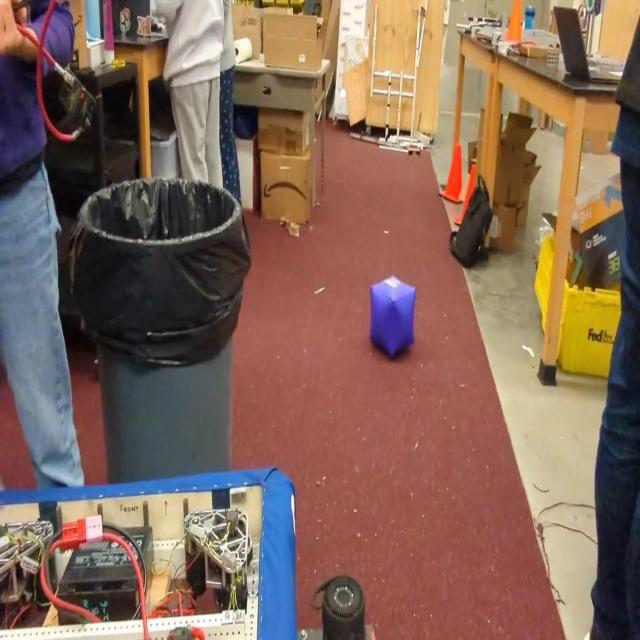frc_cube: (368, 275, 416, 360)
